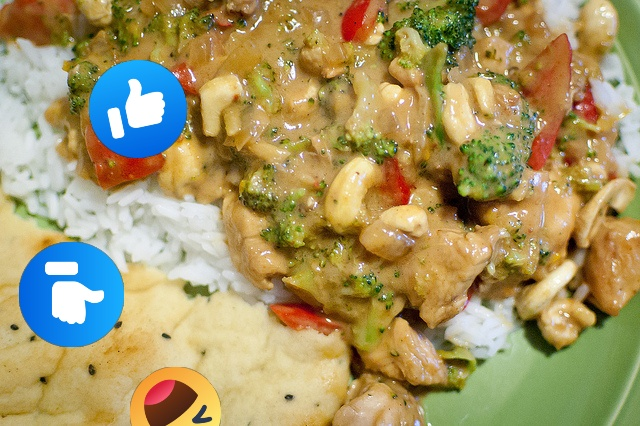haha: (130, 367, 221, 426)
like: (19, 242, 124, 347), (89, 60, 187, 158)
